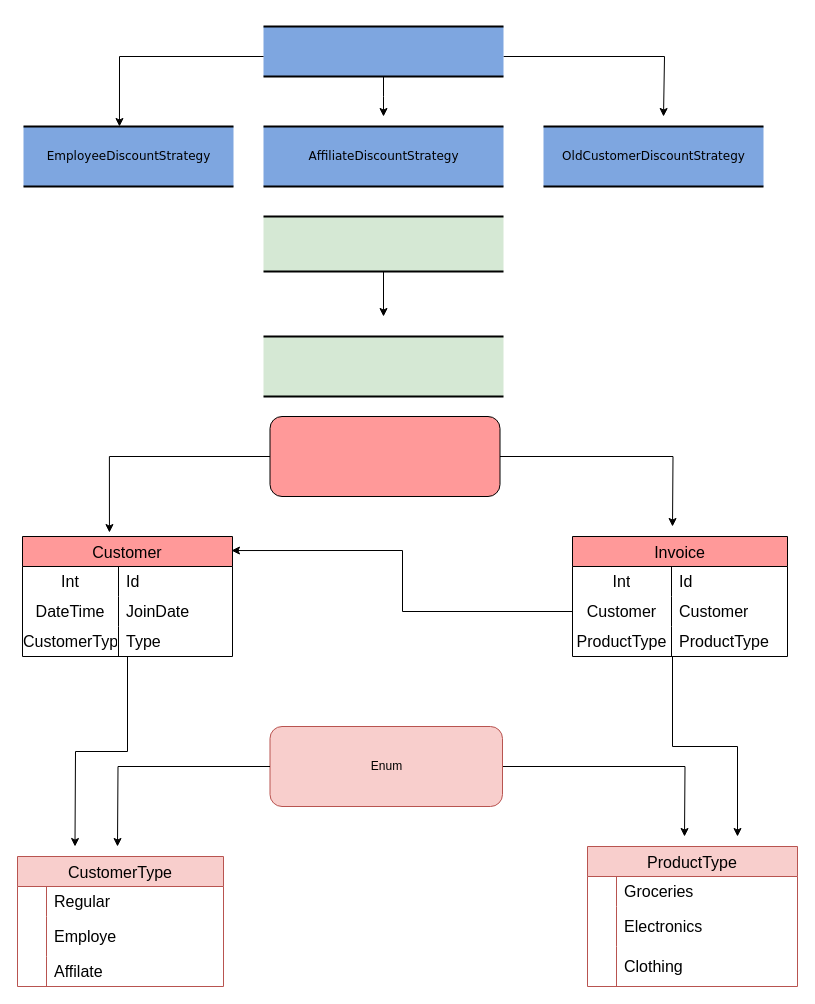
This 815x1004 diagram has some shape labels left out. Each missing label, with the centre of its shape:
"DiscountCalculator" belongs at [383,366].
"ICustomerDiscountStrategy" belongs at [383,51].
"IDiscountCalculator" belongs at [383,243].
"Model" belongs at [384,456].
